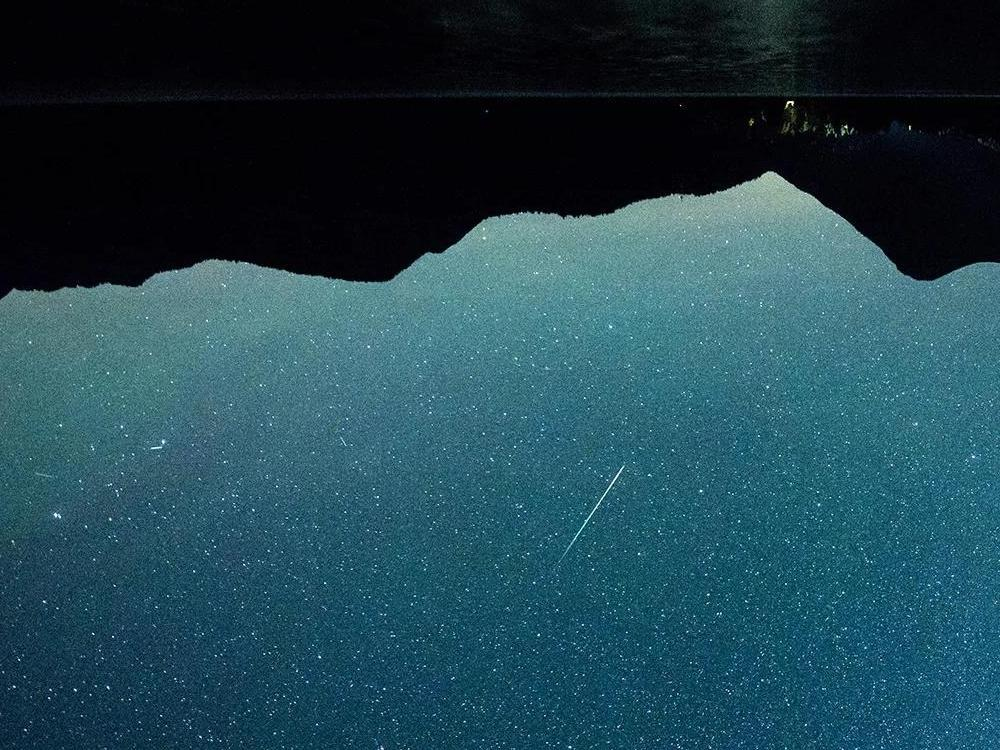meteorite: (537, 445, 665, 575), (145, 437, 174, 457)
